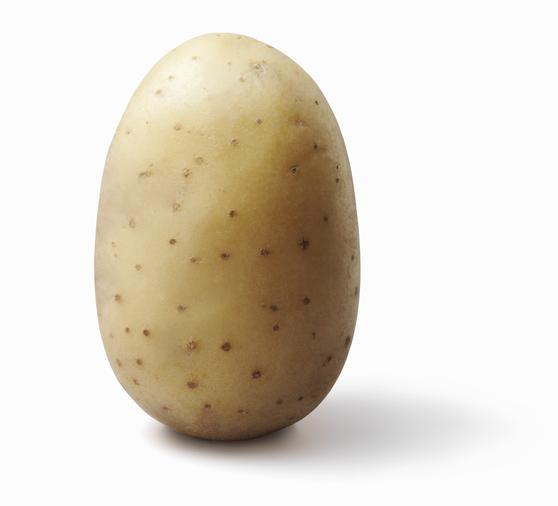potato: (99, 29, 365, 449)
